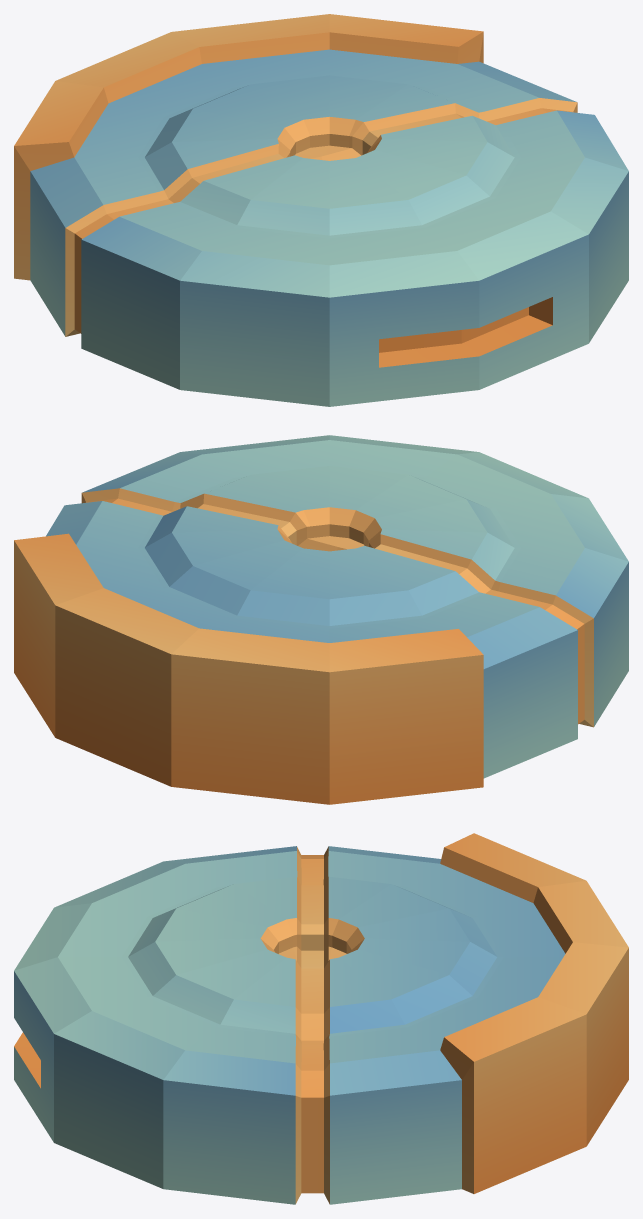
The model's file is SM_roomba.fbx.
3 views of the same model, one above another, from view 1: azimuth 30°, elevation 25°; view 2: azimuth 150°, elevation 25°; view 3: azimuth 270°, elevation 25° (orthographic).
Parts seen in each view (by area): view 1: pCylinder3; view 2: pCylinder3; view 3: pCylinder3.
Boxes of the visible parts, x1,y1,x2,y2 form: pCylinder3: [14, 14, 628, 406]; pCylinder3: [14, 435, 628, 804]; pCylinder3: [14, 833, 628, 1204].
Bounding box in the file's own units: 349 × 92.03 × 363.
